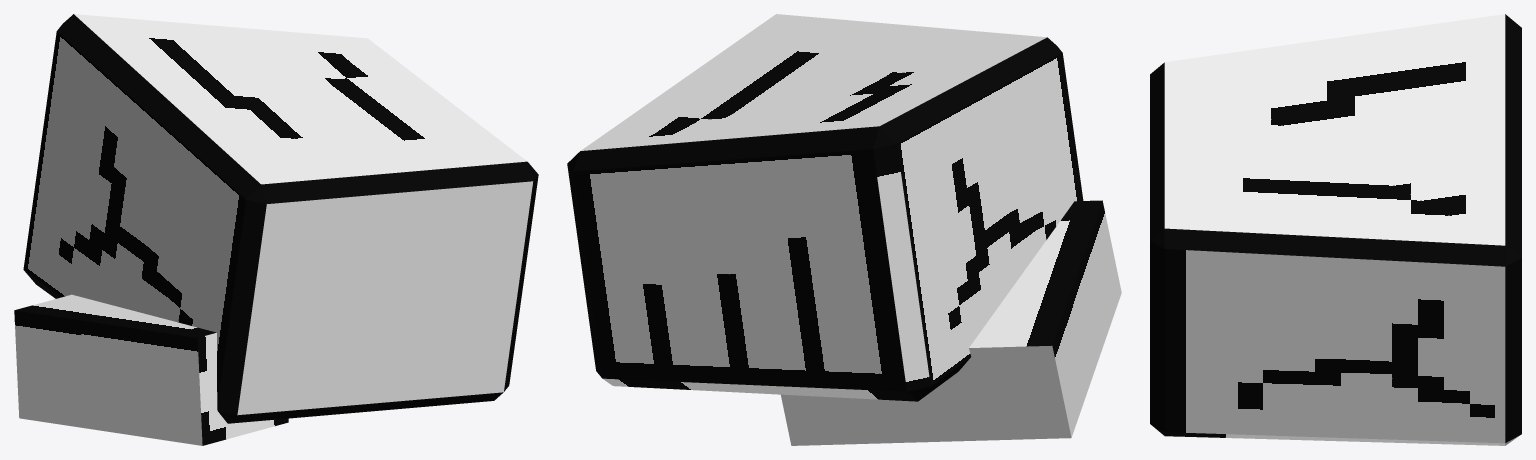
File: fist.glb
3 renders of one model, left to right at view 1: azimuth 30°, elevation 25°; view 2: azimuth 150°, elevation 25°; view 3: azimuth 270°, elevation 25°, orthographic. The views are drawn at different scales.
Parts seen in each view (by area): view 1: Fist; view 2: Fist; view 3: Fist.
Part boxes in pixels (x1=…): Fist: x1=14, y1=14, x2=538, y2=445; Fist: x1=567, y1=14, x2=1121, y2=445; Fist: x1=1150, y1=14, x2=1521, y2=445.
Size of the model in its own units: 0.6675 by 0.5366 by 0.5192.
Materials: 1 (1 with a texture image).
